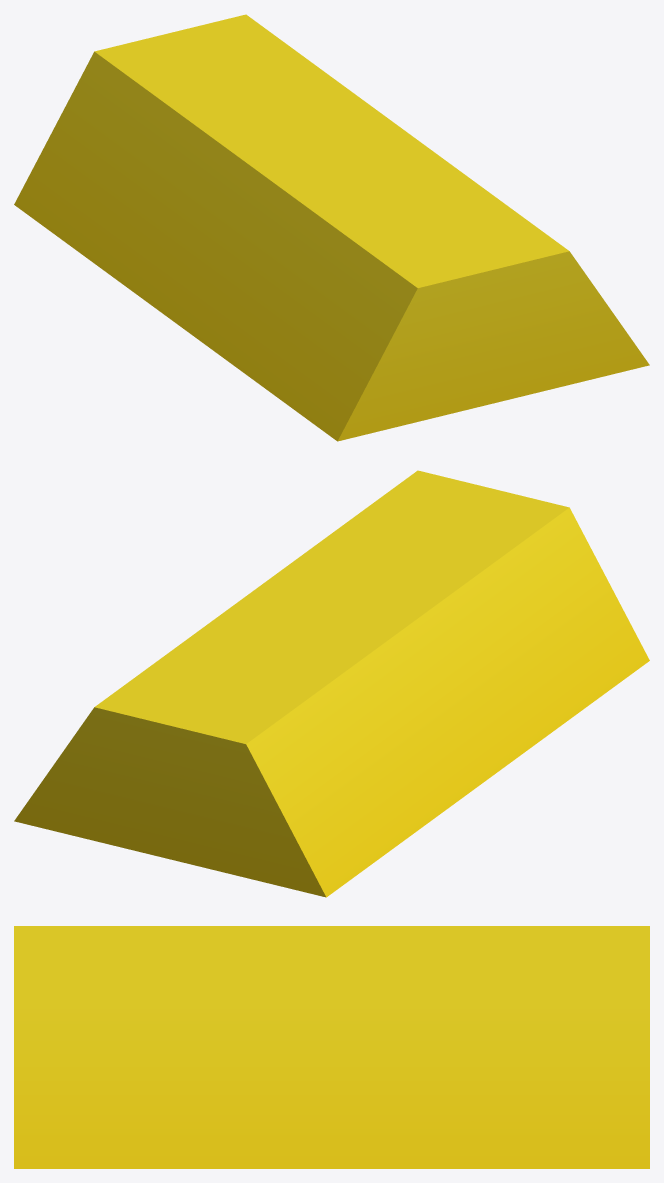
The model's file is gold.fbx.
The picture shows the model from 3 angles, top to bottom: view 1: azimuth 30°, elevation 25°; view 2: azimuth 150°, elevation 25°; view 3: azimuth 270°, elevation 25°; orthographic projection.
Parts seen in each view (by area): view 1: gold; view 2: gold; view 3: gold.
Boxes of the visible parts, x1,y1,x2,y2 form: gold: [14, 14, 649, 441]; gold: [14, 470, 649, 897]; gold: [14, 926, 649, 1168].
Bounding box in the file's own units: 80.25 × 32.8 × 144.
Materials: 1 (1 with a texture image).
